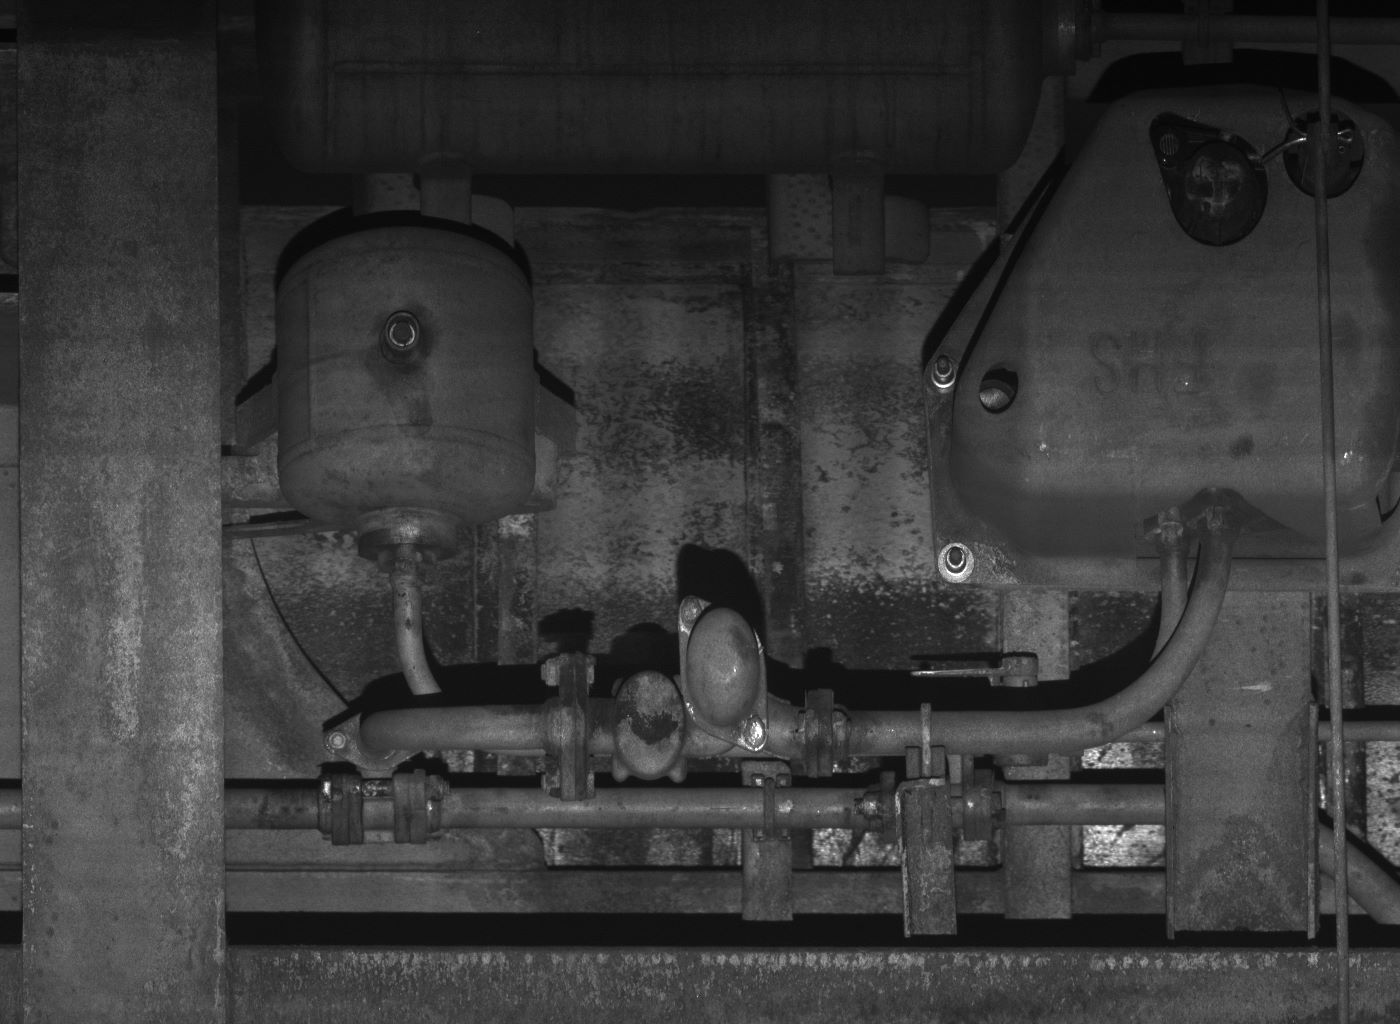normal: (611, 671, 690, 784)
